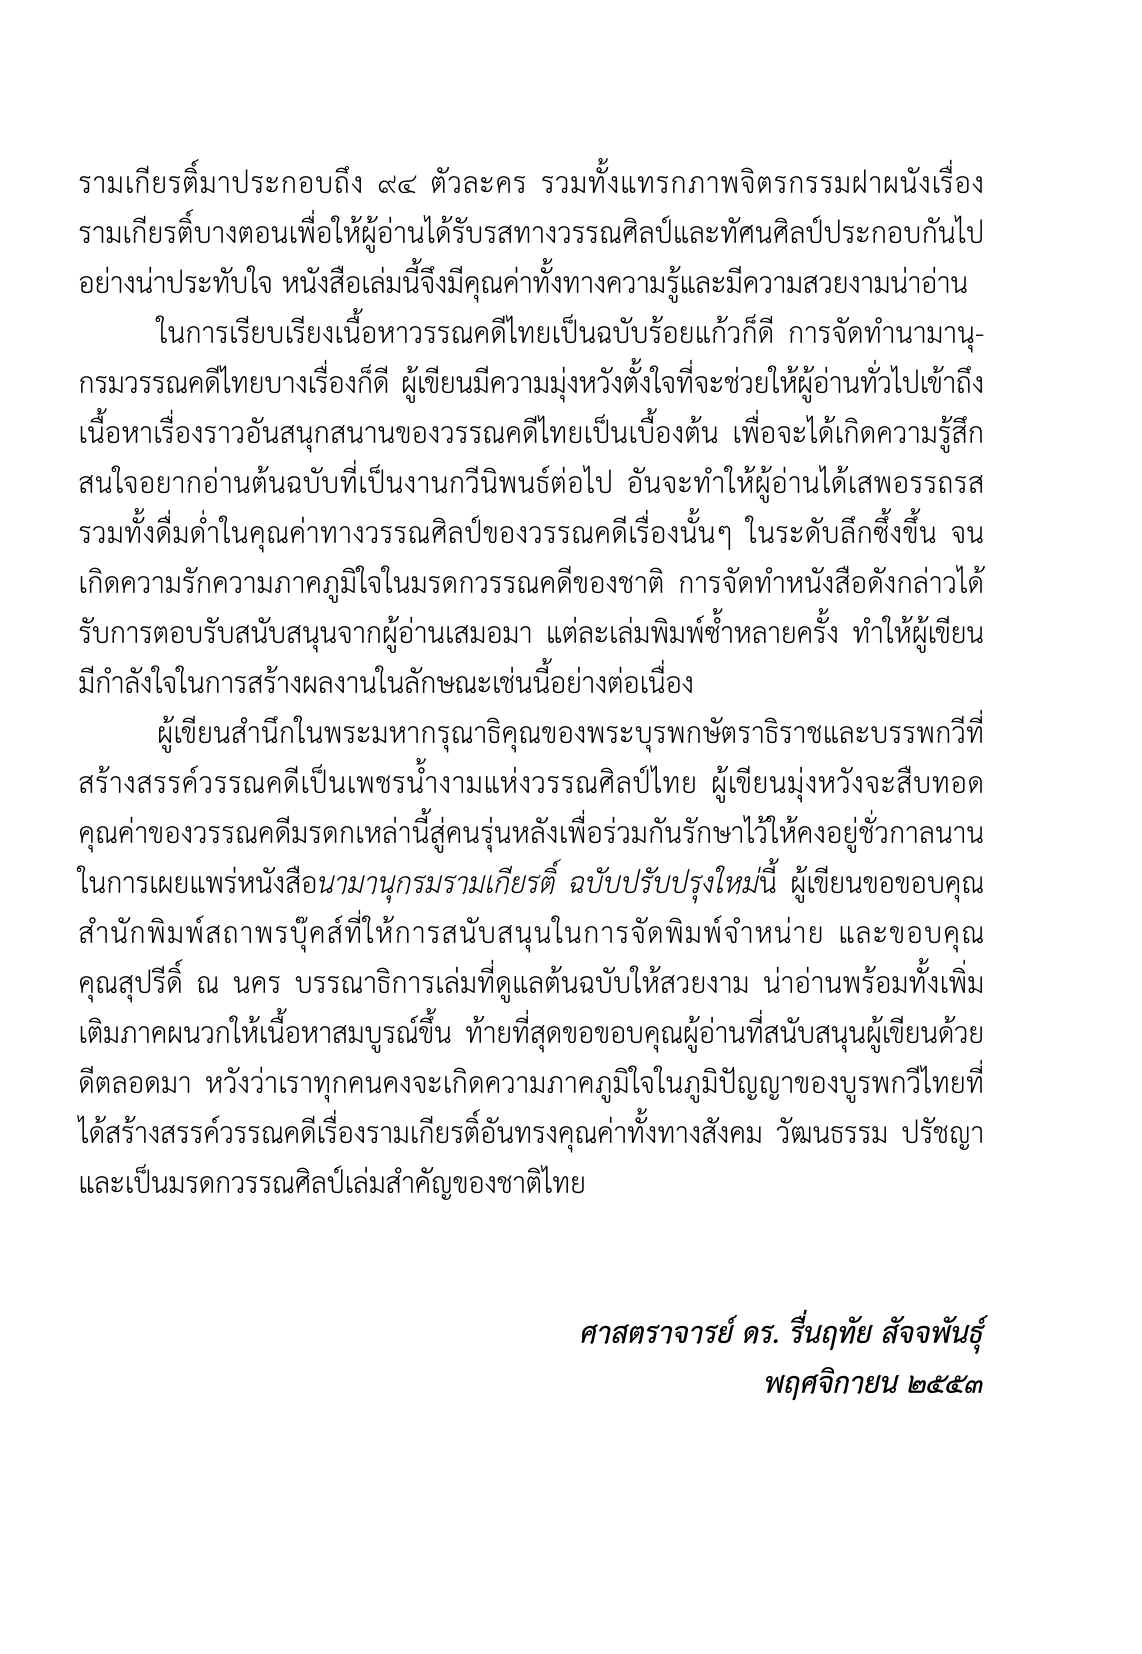thai: (74, 309, 991, 700), (75, 953, 985, 1205), (75, 708, 987, 956), (77, 150, 985, 309), (577, 1298, 991, 1408)
